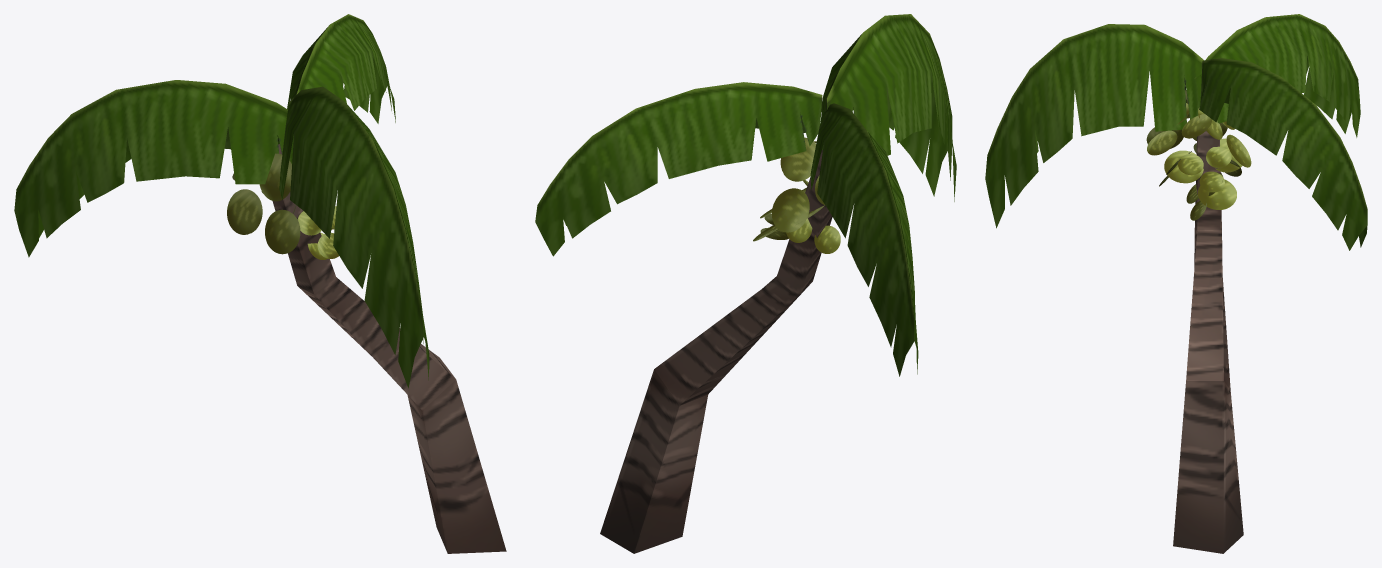
Rendered from Tria_Nature_TreeVar04.fbx.
The picture shows the model from 3 angles, left to right: view 1: azimuth 30°, elevation 25°; view 2: azimuth 150°, elevation 25°; view 3: azimuth 270°, elevation 25°; orthographic projection. The views are drawn at different scales.
Visible parts, largest first — view 1: Tria_Nature_TreeVar04; view 2: Tria_Nature_TreeVar04; view 3: Tria_Nature_TreeVar04.
Part boxes in pixels (x1,y1,x2,y2): Tria_Nature_TreeVar04: [14, 14, 506, 553]; Tria_Nature_TreeVar04: [535, 14, 956, 553]; Tria_Nature_TreeVar04: [985, 14, 1367, 553].
Bounding box in the file's own units: 499 × 629 × 495.
